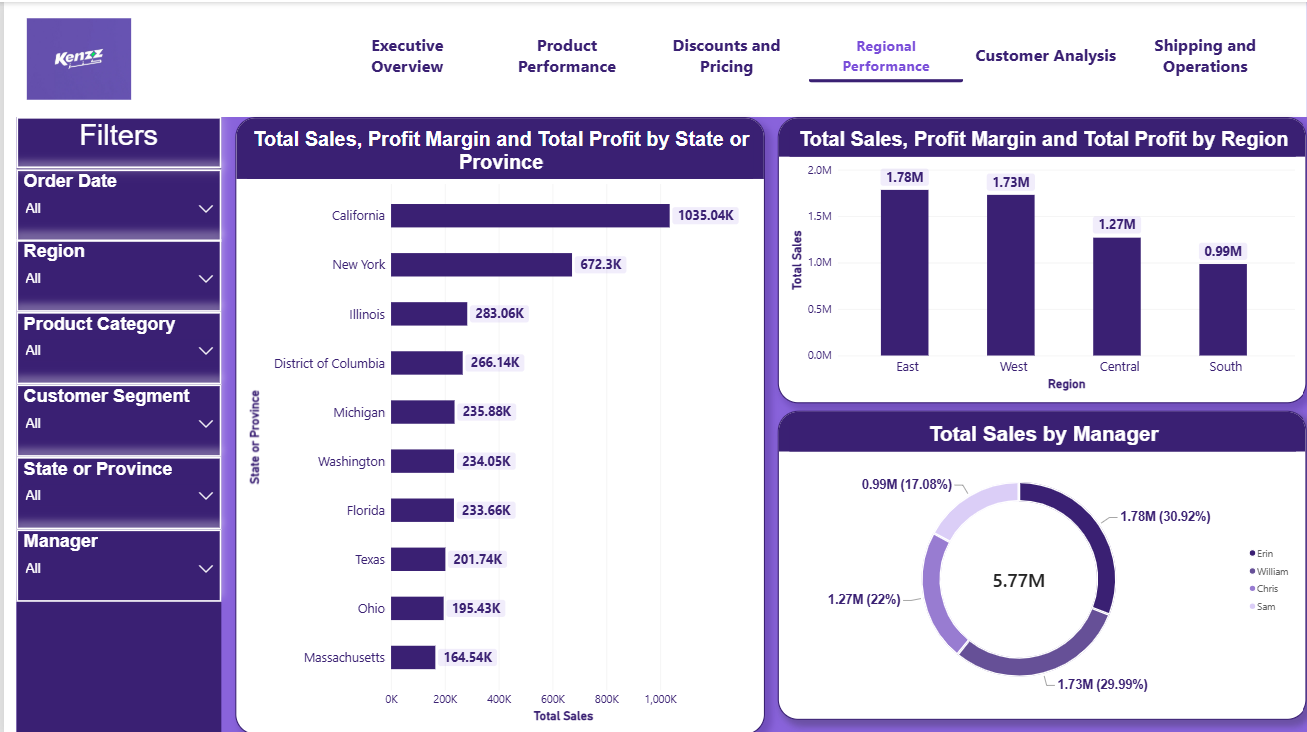

The dashboard page shown, as its layout file describes it:
{"tool":"powerbi","page":{"name":"Regional Performance","canvas":[1920,1080],"ordinal":4},"visuals":[{"type":"shape","box":[0,140.9,18.8,939.1],"z":0},{"type":"shape","title":"Super Store Analysis Dashboard","box":[0,0,1919.6,169.3],"z":1000},{"type":"pageNavigator","box":[480.4,38.7,1404.3,81],"z":3000},{"type":"shape","box":[18.4,169,301.8,911],"z":4000},{"type":"textbox","box":[18.4,169.3,301.8,75.5],"z":5000},{"type":"slicer","fields":{"Values":["Final Sales Data.Order Date"]},"box":[18.4,246.6,301.8,106.7],"z":6000},{"type":"slicer","fields":{"Values":["Customers Data.Region"]},"box":[18.4,349.7,301.8,106.7],"z":7000},{"type":"slicer","fields":{"Values":["Products Data.Product Category"]},"box":[18.4,456.4,301.8,106.7],"z":8000},{"type":"slicer","fields":{"Values":["Customers Data.Customer Segment"]},"box":[18.4,563.2,301.8,106.7],"z":9000},{"type":"slicer","fields":{"Values":["Customers Data.State or Province"]},"box":[18.4,669.9,301.8,106.7],"z":10000},{"type":"slicer","fields":{"Values":["Mangers Data.Manager"]},"box":[19.1,777.6,301.8,106.7],"z":11000},{"type":"clusteredColumnChart","fields":{"Category":["Customers Data.Region"],"Y":["Measures Table.Total Sales"]},"box":[1140.2,169.4,779.8,421.4],"z":12000},{"type":"clusteredBarChart","fields":{"Category":["Customers Data.State or Province"],"Y":["Measures Table.Total Sales"]},"box":[340.7,169.4,779.8,909.8],"z":13000},{"type":"donutChart","title":"Total Sales by Manager","fields":{"Category":["Mangers Data.Manager"],"Y":["Measures Table.Total Sales"]},"box":[1140.2,602.6,779.8,454.9],"z":14000},{"type":"image","box":[18.4,23.9,184.1,119.6],"z":14001}]}

Visuals, with their boxes in screenshot pixels (x1, y1, x2, y2), scaled from the page's 1920x1080 canvas onto the 1307x732 screenshot:
shape: <region>0, 95, 13, 731</region>
"Super Store Analysis Dashboard" shape: <region>0, 0, 1306, 115</region>
pageNavigator: <region>327, 26, 1283, 81</region>
shape: <region>13, 115, 218, 731</region>
textbox: <region>13, 115, 218, 166</region>
slicer - Final Sales Data.Order Date: <region>13, 167, 218, 239</region>
slicer - Customers Data.Region: <region>13, 237, 218, 309</region>
slicer - Products Data.Product Category: <region>13, 309, 218, 382</region>
slicer - Customers Data.Customer Segment: <region>13, 382, 218, 454</region>
slicer - Customers Data.State or Province: <region>13, 454, 218, 526</region>
slicer - Mangers Data.Manager: <region>13, 527, 218, 599</region>
clusteredColumnChart - Customers Data.Region x Measures Table.Total Sales: <region>776, 115, 1306, 400</region>
clusteredBarChart - Customers Data.State or Province x Measures Table.Total Sales: <region>232, 115, 763, 731</region>
"Total Sales by Manager" donutChart: <region>776, 408, 1306, 717</region>
image: <region>13, 16, 138, 97</region>
